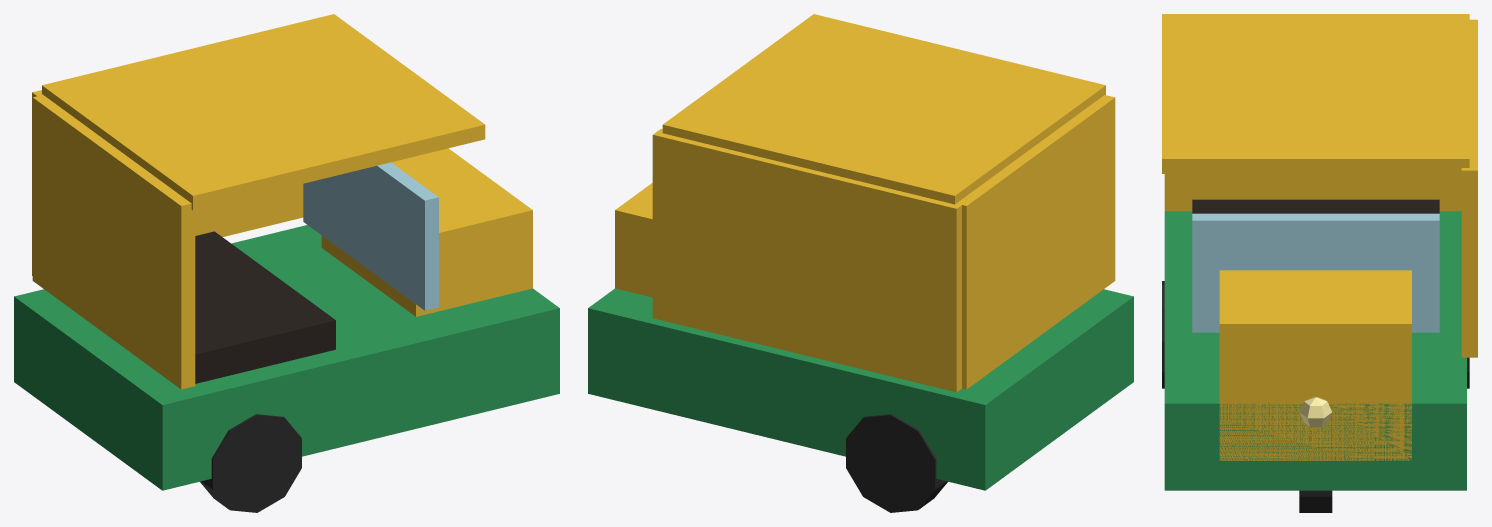
The model's file is auto.glb.
3 renders of one model, left to right at view 1: azimuth 30°, elevation 25°; view 2: azimuth 150°, elevation 25°; view 3: azimuth 270°, elevation 25°, orthographic.
Visible parts, largest first — view 1: auto; view 2: auto; view 3: auto.
Boxes of the visible parts, x1,y1,x2,y2 form: auto: (14, 14, 559, 512); auto: (588, 14, 1133, 512); auto: (1162, 14, 1477, 512).
Bounding box in the file's own units: 1.76 × 1.36 × 1.15.
1 material, 1 textured.
